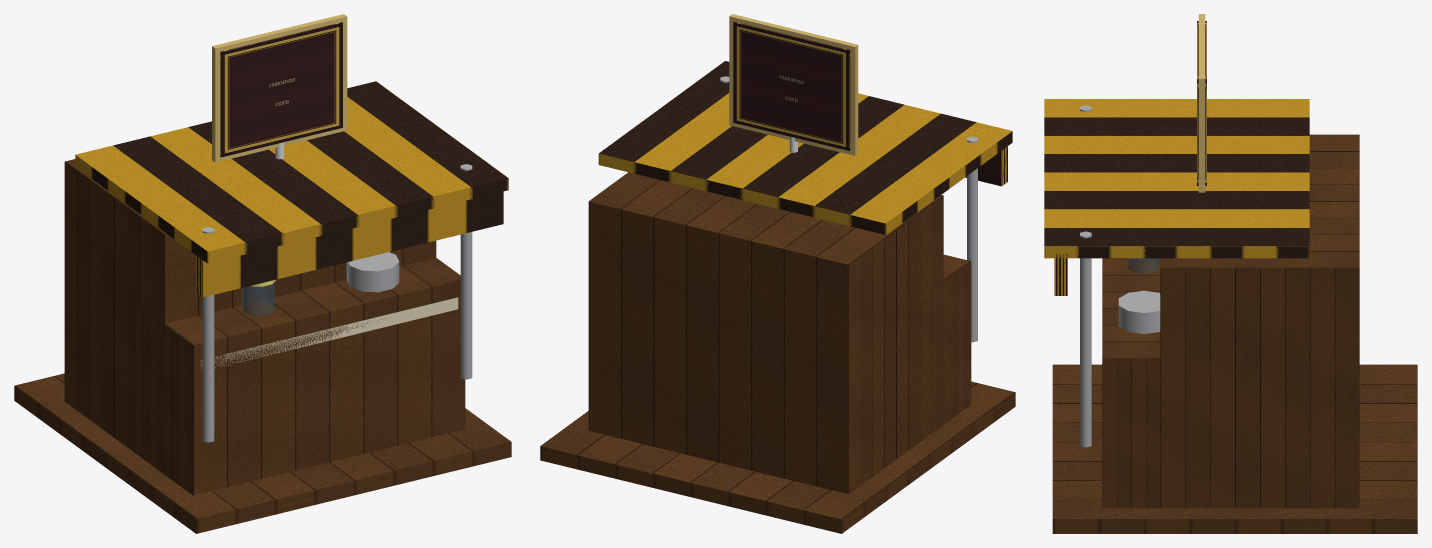
The model's file is vendor_lemonade.glb.
3 renders of one model, left to right at view 1: azimuth 30°, elevation 25°; view 2: azimuth 150°, elevation 25°; view 3: azimuth 270°, elevation 25°, orthographic. The views are drawn at different scales.
Visible parts, largest first — view 1: base, sign, prop; view 2: base, sign; view 3: base, sign, prop.
Part boxes in pixels (left/top/right/bottom): base: left=14, top=81, right=511, bottom=533; sign: left=212, top=14, right=347, bottom=162; prop: left=242, top=279, right=275, bottom=316; base: left=540, top=61, right=1015, bottom=533; sign: left=729, top=14, right=858, bottom=155; base: left=1044, top=99, right=1417, bottom=533; sign: left=1197, top=14, right=1206, bottom=192; prop: left=1128, top=258, right=1159, bottom=273.
Bounding box in the file's own units: 2.2 × 2.73 × 2.25.
Materials: 9 (3 with a texture image).
